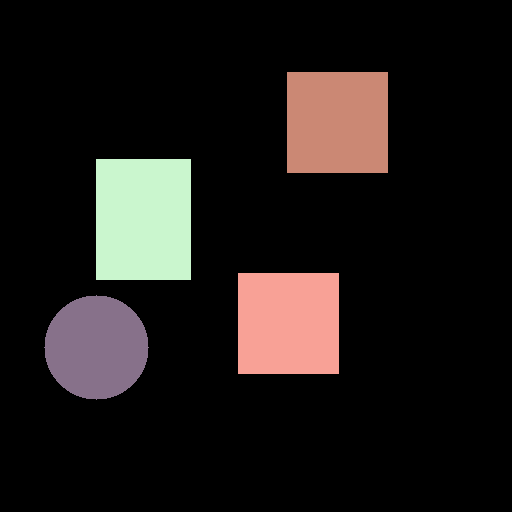circle: (44, 295, 148, 399)
rectangle: (96, 159, 190, 279)
square: (238, 273, 338, 373), (287, 72, 387, 172)
